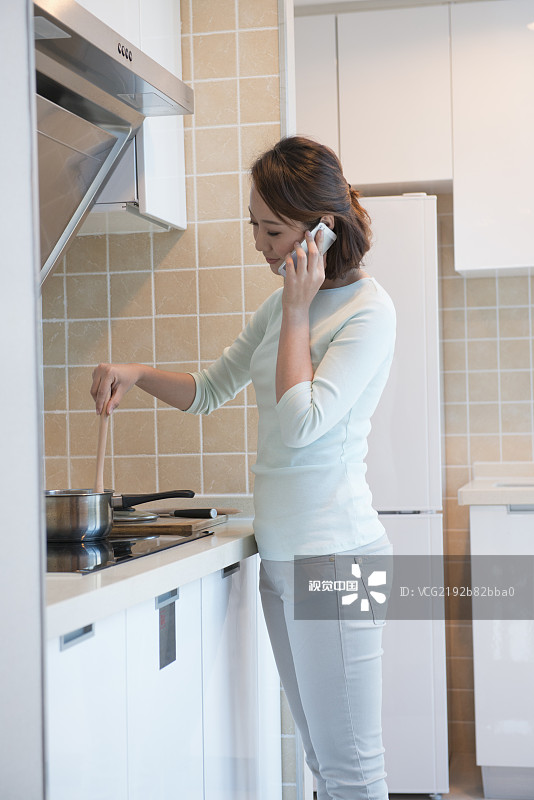calling: (259, 214, 363, 335)
no-phone: (66, 345, 178, 501)
